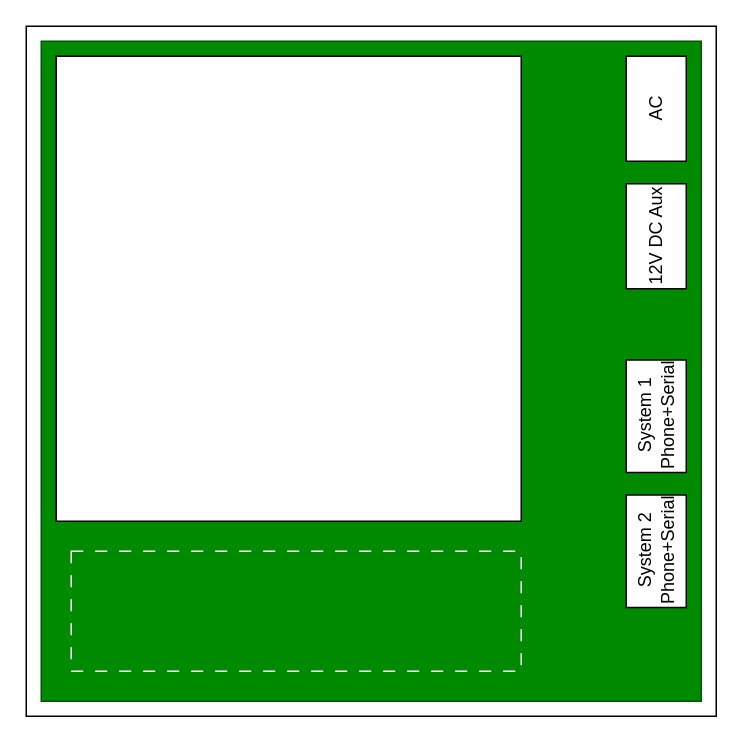
Image size: 743x743. Some labels were removed from this diagram. The shapes that lost their labels are listed below. From the top down, each one's box as (x1, y1, x2, y2) in pixels, then its label:
(55, 55, 521, 521): AT&T Cellular Router
(70, 550, 521, 671): Programming Interface, Reset Controls
